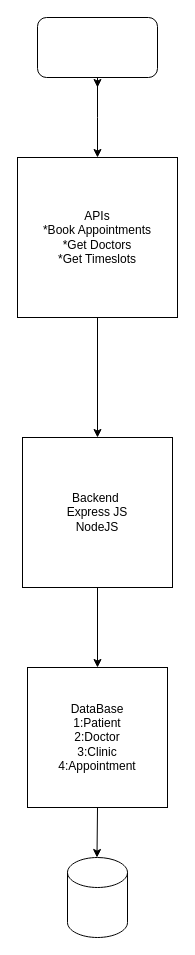
Image size: 195x955. Some labels were removed from this diagram. Here are the shapes that lost their labels. From the top down, the centre of each, then its label:
At point (97, 47): "Client REACT".
At point (97, 897): "Database MongoDB".
